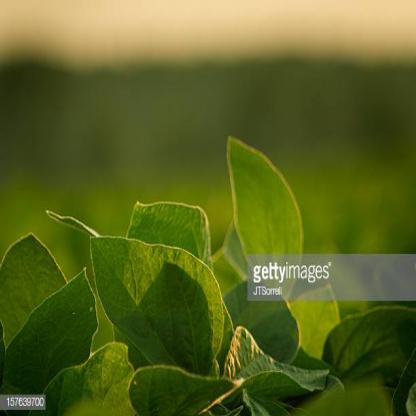soybean leaf: (89, 236, 225, 378), (2, 266, 99, 393), (1, 230, 71, 359)
